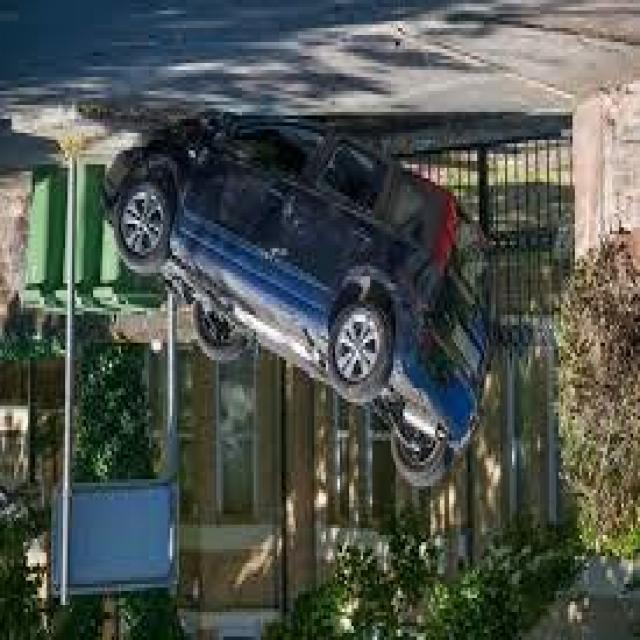severe: (99, 106, 504, 492)
